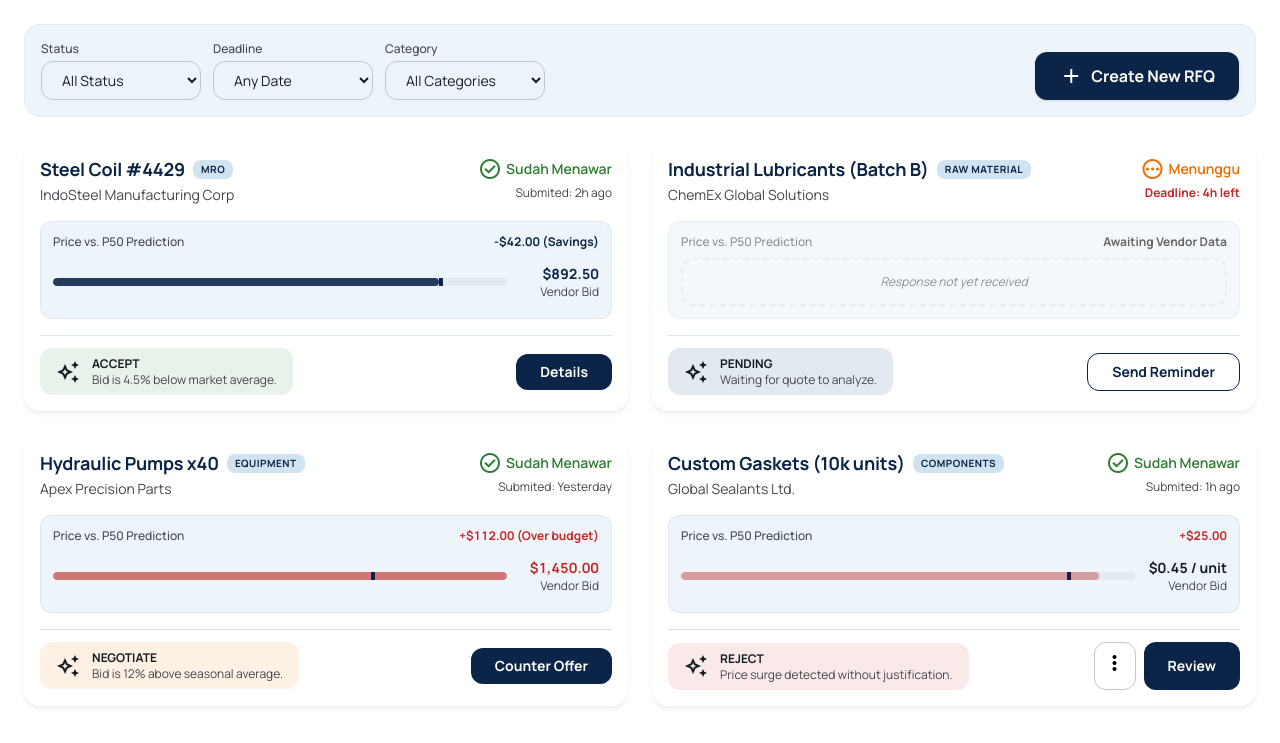
Test: RfqManagementPage › adds a new RFQ card via the create form
The width and height of the screenshot is (1280, 743).
Click the button "Create New RFQ" at (1137, 76), box left=1035, top=52, right=1239, bottom=100
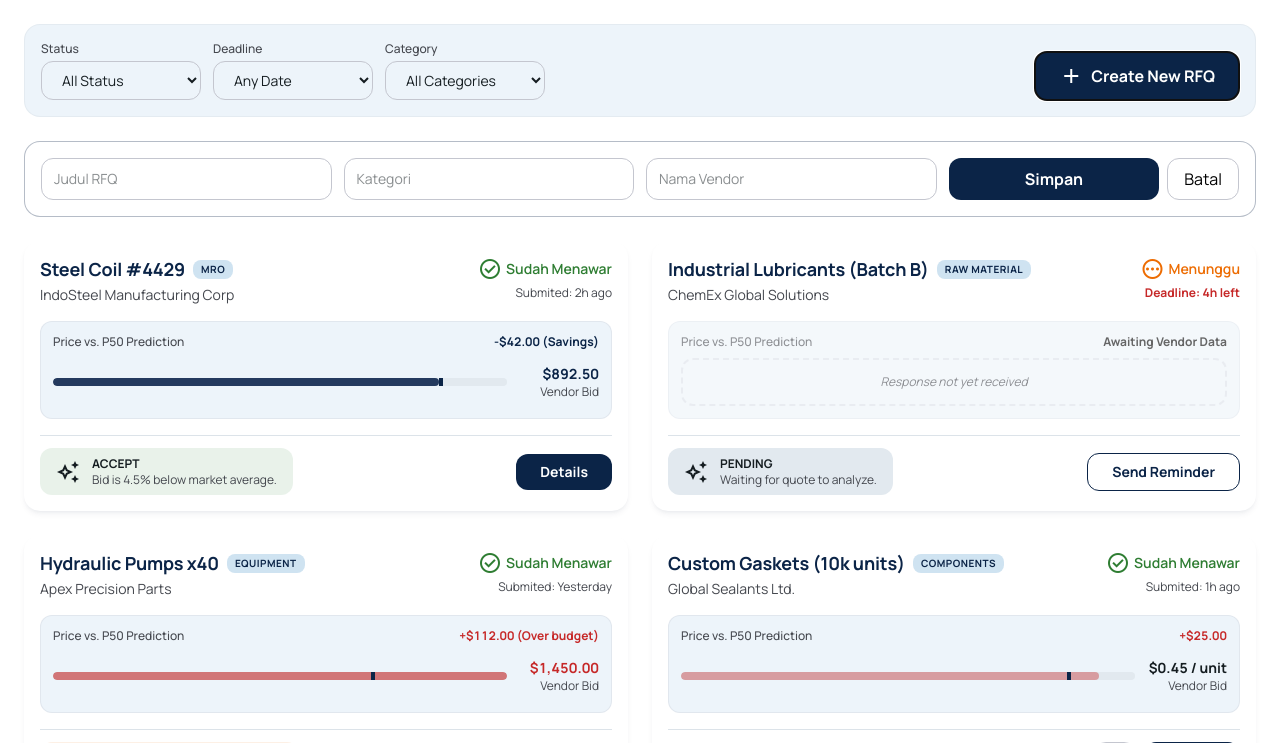
Type "Kemasan Botol Kaca" into the field with placeholder "Judul RFQ" at (186, 179), box left=41, top=158, right=332, bottom=200
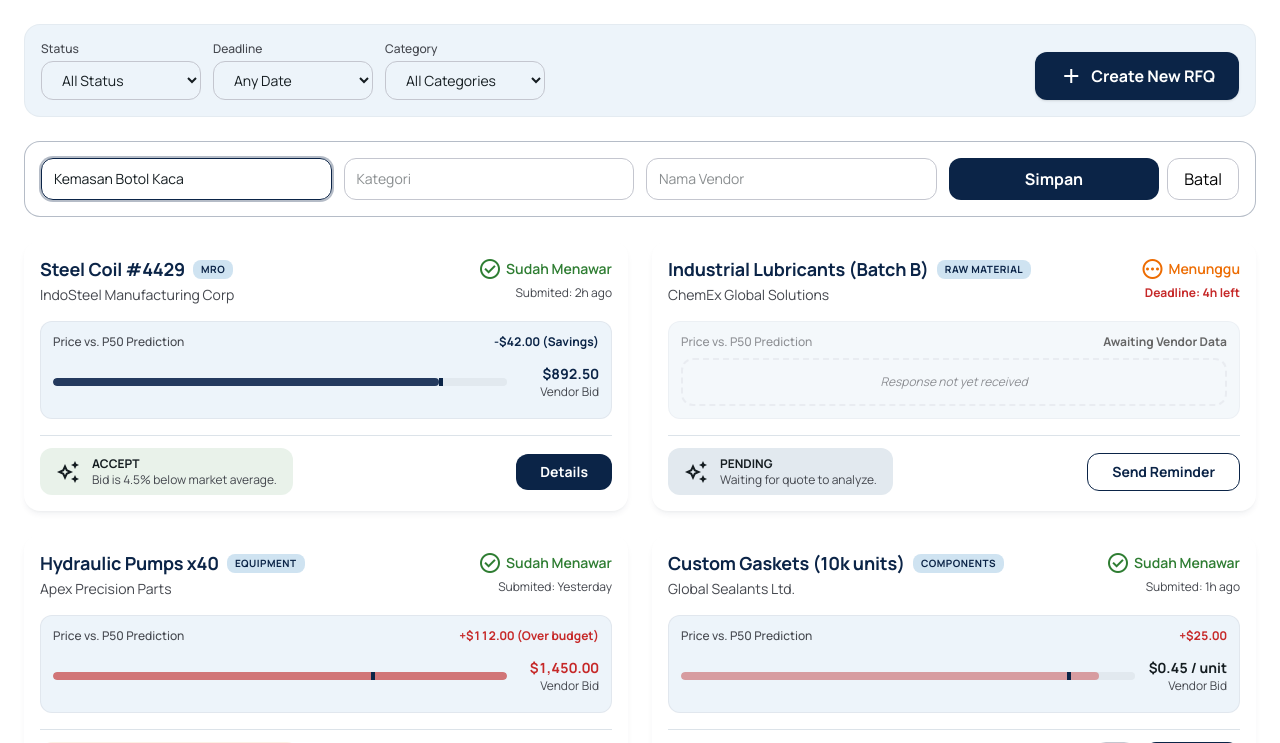
Type "Packaging" into the field with placeholder "Kategori" at (489, 179), box left=344, top=158, right=634, bottom=200
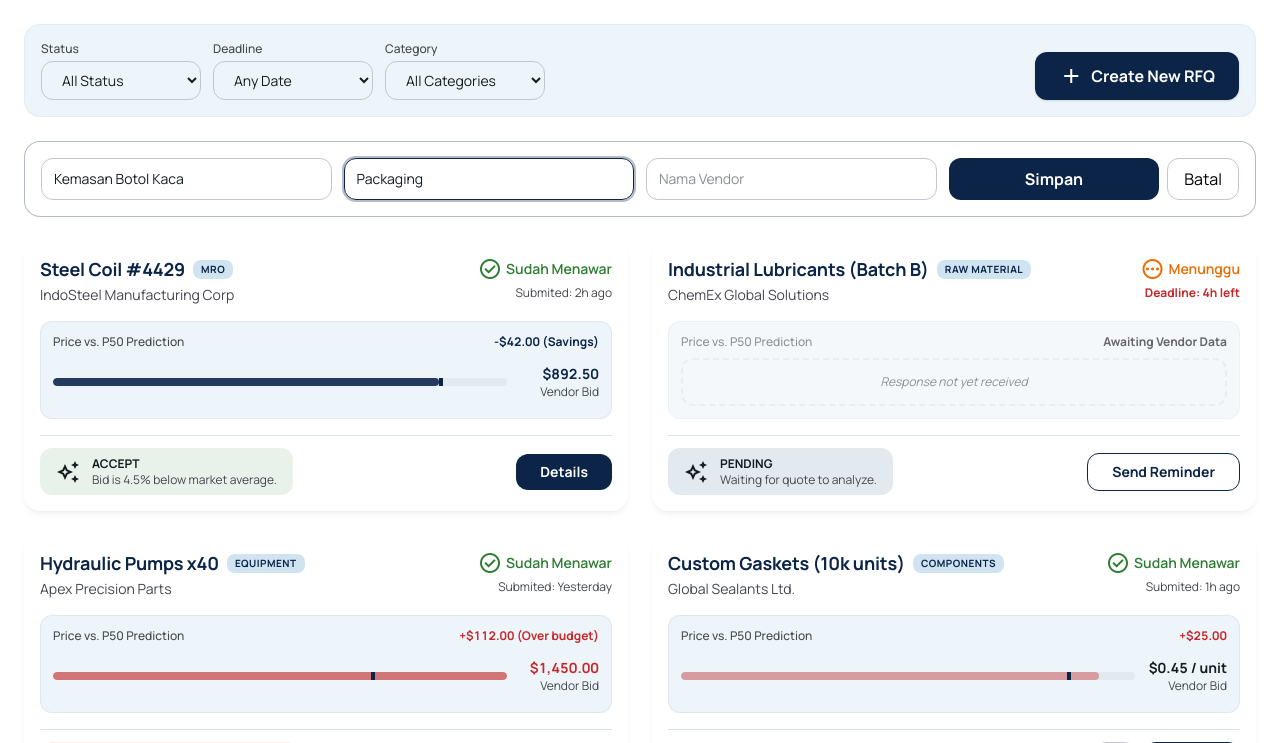
Type "PT. Kaca Nusantara" into the field with placeholder "Nama Vendor" at (791, 179), box left=646, top=158, right=936, bottom=200
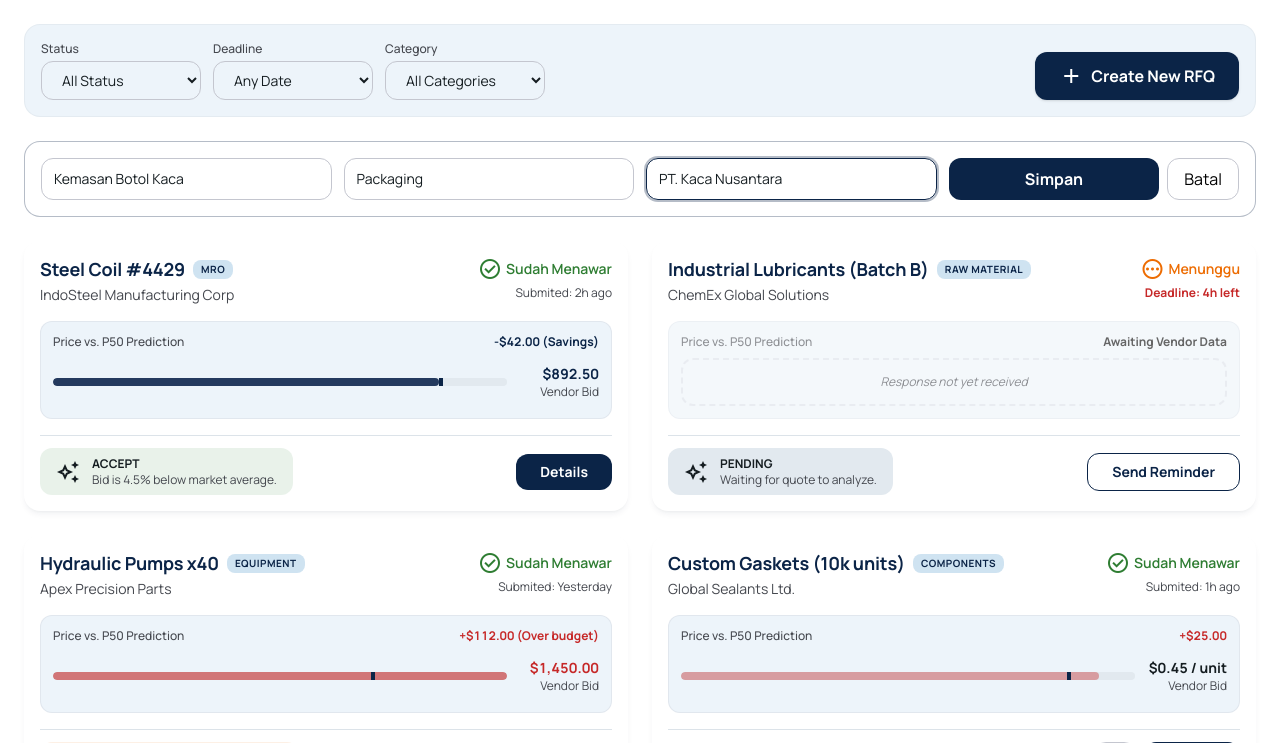
Click the button "Simpan" at (1054, 179), box left=948, top=158, right=1159, bottom=200
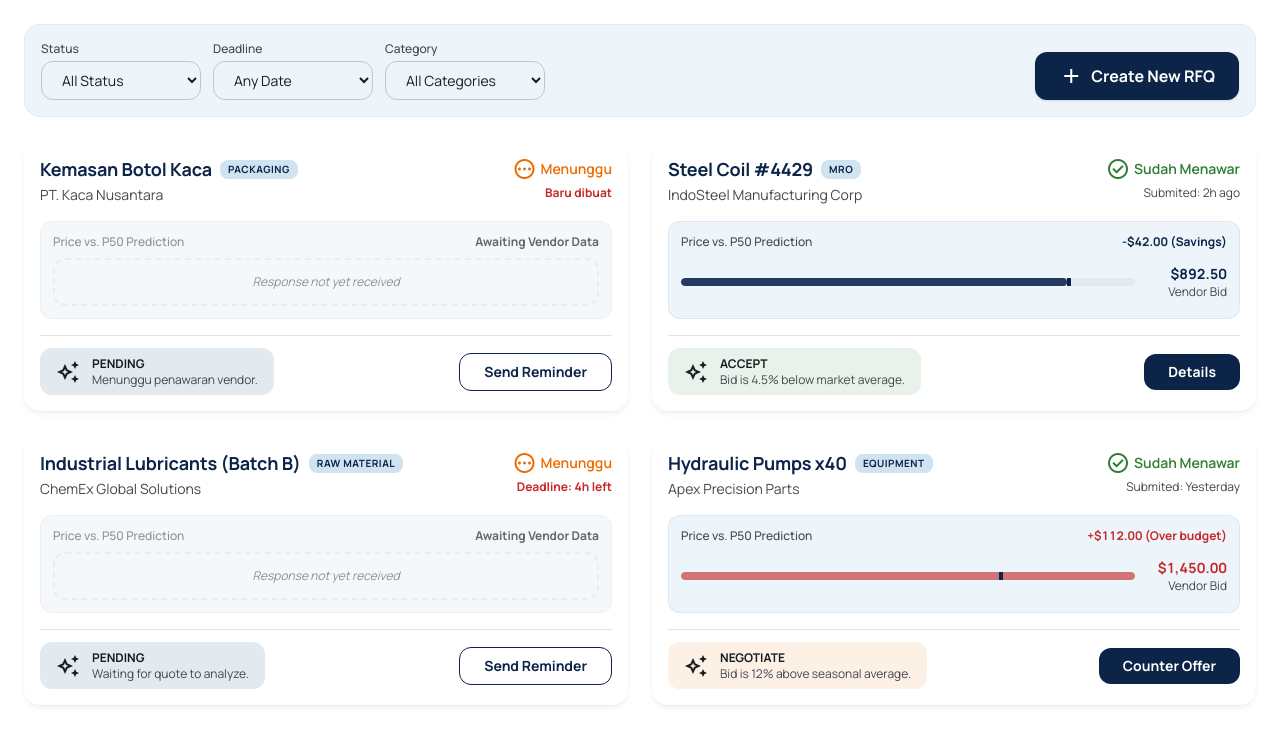
Now the heading "Kemasan Botol Kaca" is shown, box left=40, top=157, right=212, bottom=181
